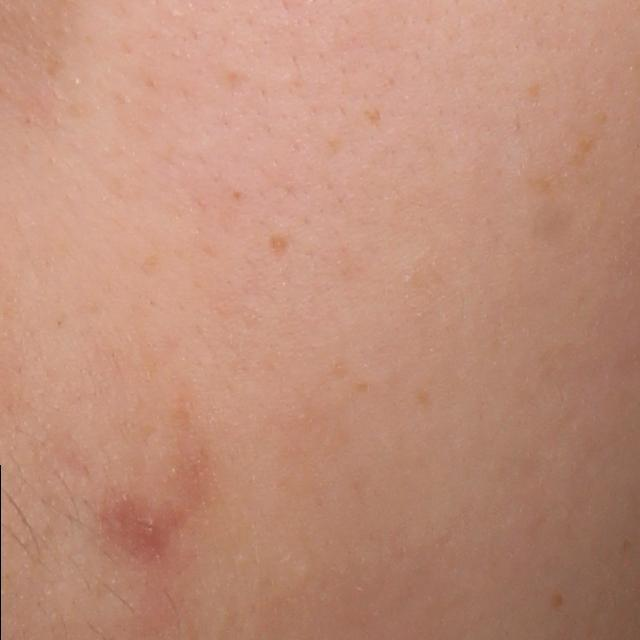melasma: (266, 233, 294, 259), (416, 388, 432, 407), (548, 590, 565, 607), (353, 381, 373, 394)
